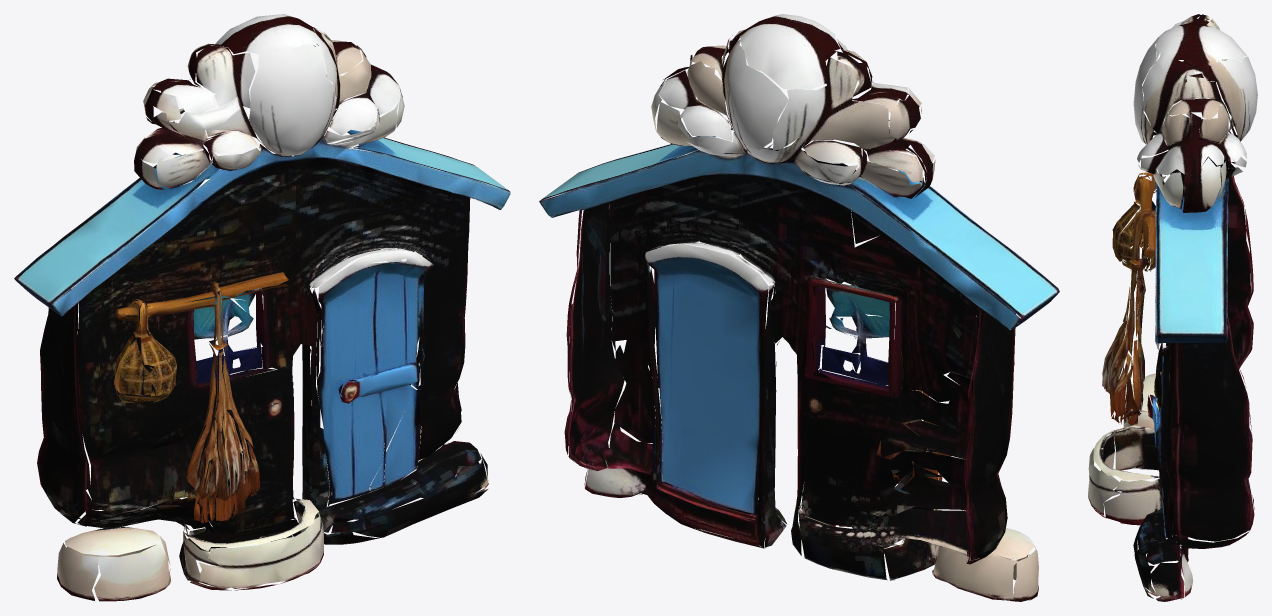
The model's file is balikci_evi.glb.
3 renders of one model, left to right at view 1: azimuth 30°, elevation 25°; view 2: azimuth 150°, elevation 25°; view 3: azimuth 270°, elevation 25°, orthographic. The views are drawn at different scales.
Parts seen in each view (by area): view 1: geometry_0; view 2: geometry_0; view 3: geometry_0.
Boxes of the visible parts, x1=… form: geometry_0: x1=14, y1=14, x2=510, y2=601; geometry_0: x1=539, y1=14, x2=1059, y2=601; geometry_0: x1=1088, y1=14, x2=1257, y2=601.
Size of the model in its own units: 0.9242 by 0.9916 by 0.3091.
1 material, 1 textured.
